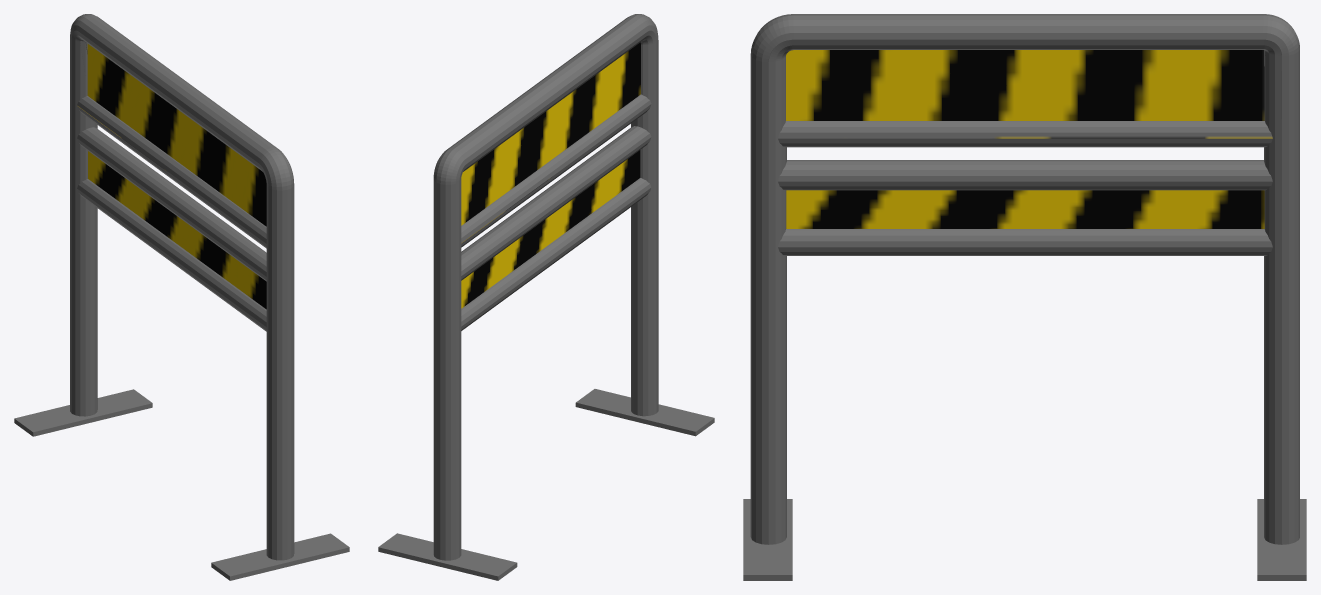
Rendered from barr.fbx.
The picture shows the model from 3 angles, left to right: view 1: azimuth 30°, elevation 25°; view 2: azimuth 150°, elevation 25°; view 3: azimuth 270°, elevation 25°; orthographic projection. The views are drawn at different scales.
Parts seen in each view (by area): view 1: barr; view 2: barr; view 3: barr.
Part boxes in pixels (left/top/right/bottom): barr: left=14, top=14, right=349, bottom=580; barr: left=378, top=14, right=714, bottom=580; barr: left=743, top=14, right=1306, bottom=580.
Bounding box in the file's own units: 997 × 3218 × 3116.
1 material, 1 textured.
